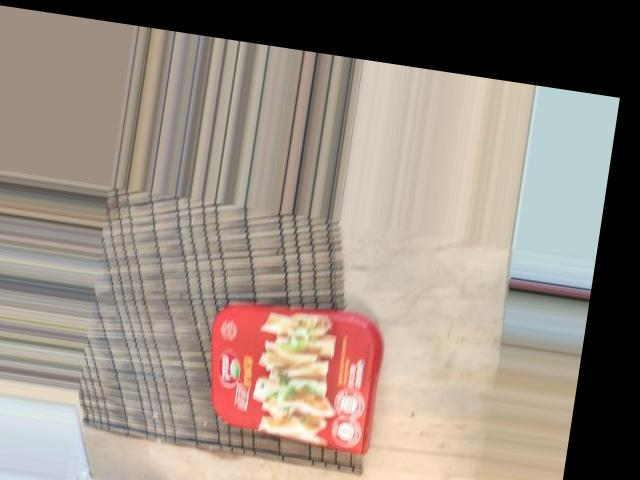cheese: (178, 199, 331, 403)
